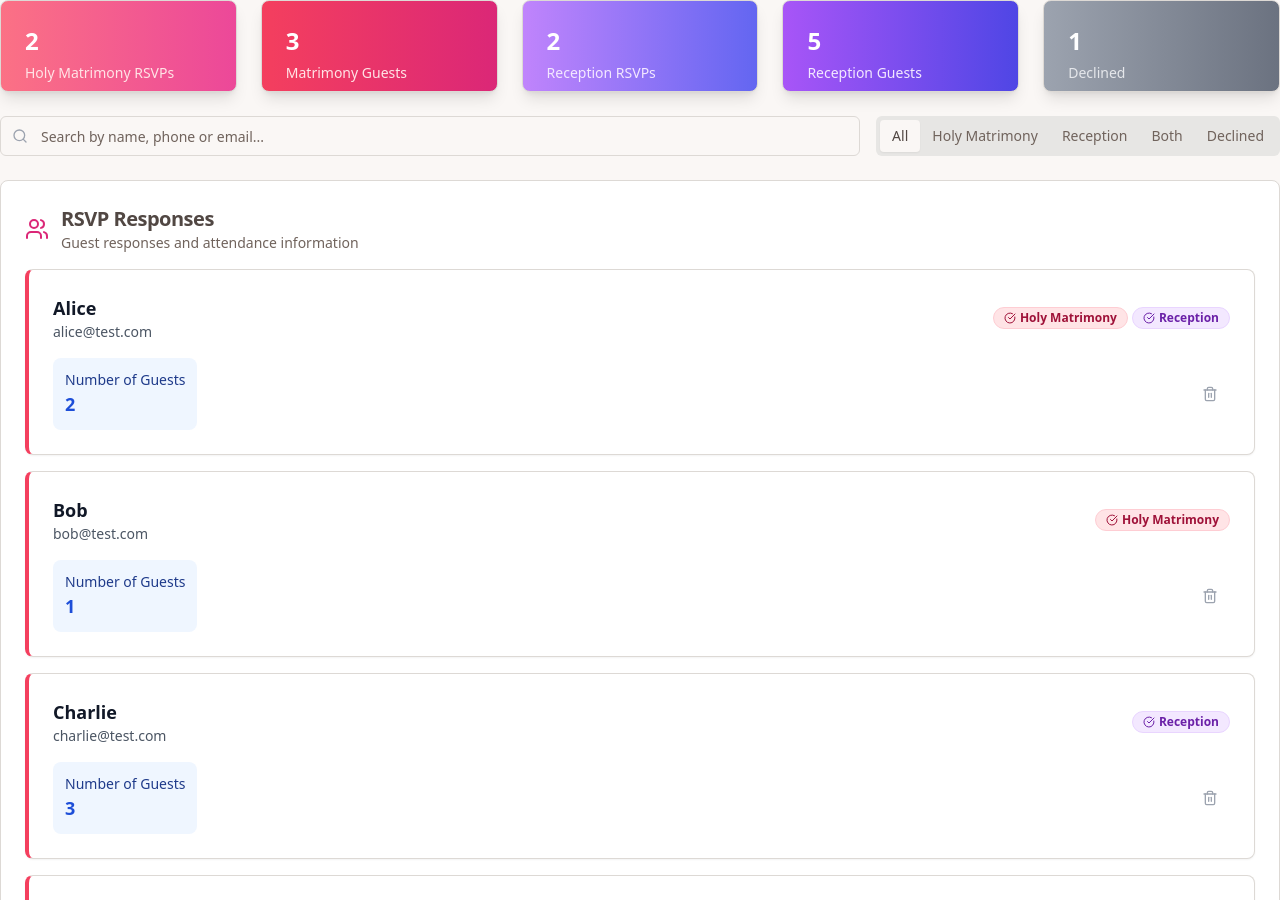
it: RsvpPage › filters by Reception tab (includes both)
Click the tab "Reception" at (1095, 136), box [1050,120,1140,152]
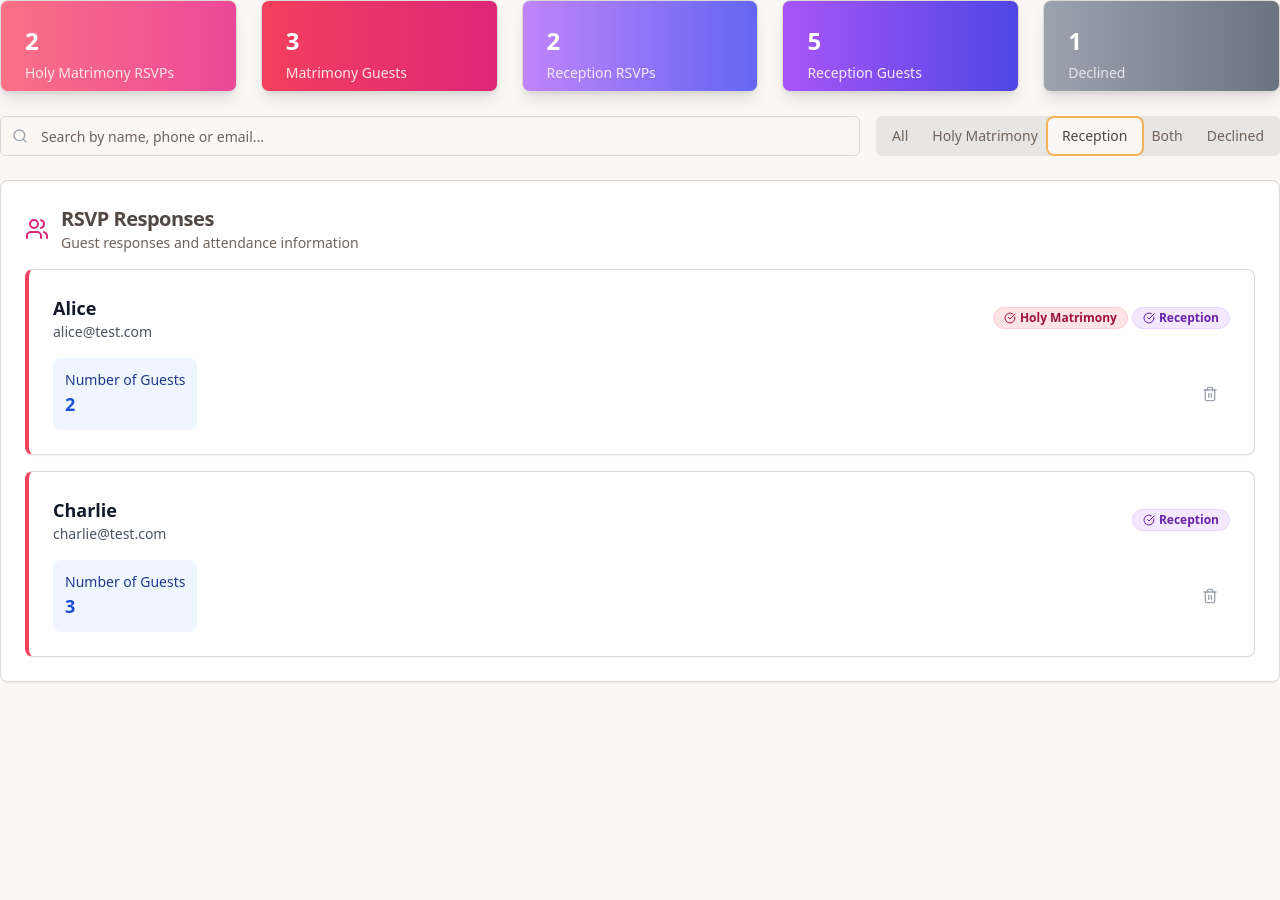
Expected: the heading "Alice" is shown, [53,296,96,320]
Now the heading "Bob" is gone
